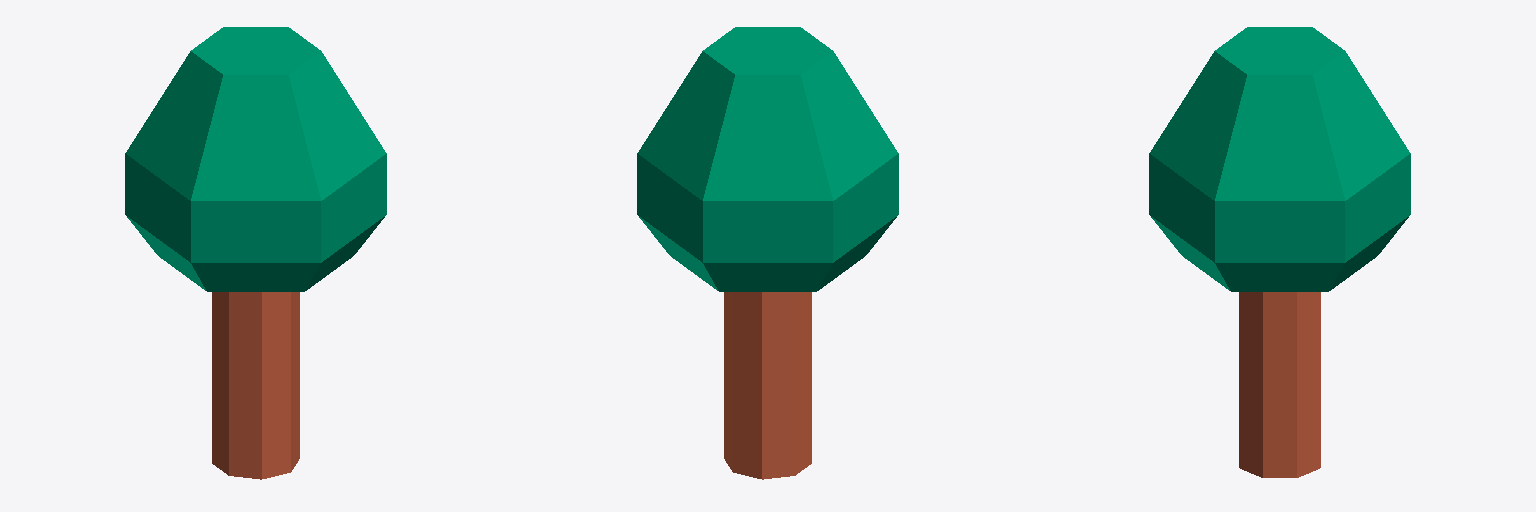
Rendered from Tree.obj.
3 renders of one model, left to right at view 1: azimuth 30°, elevation 25°; view 2: azimuth 150°, elevation 25°; view 3: azimuth 270°, elevation 25°, orthographic.
Parts seen in each view (by area): view 1: mergedBlocks; view 2: mergedBlocks; view 3: mergedBlocks.
Boxes of the visible parts, x1,y1,x2,y2 form: mergedBlocks: [125, 27, 386, 479]; mergedBlocks: [637, 27, 898, 479]; mergedBlocks: [1149, 27, 1410, 477].
Size of the model in its own units: 1 by 2 by 1.15.